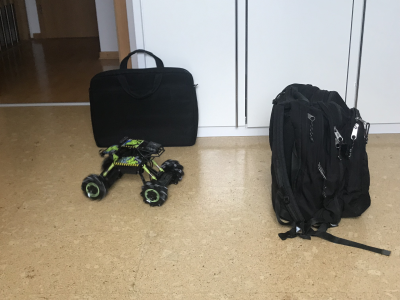remote control car: (77, 134, 186, 207)
